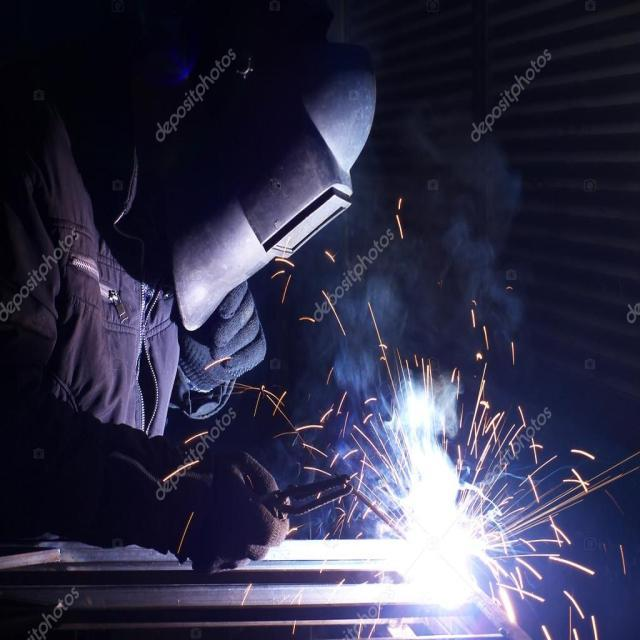with_helmet: (156, 42, 375, 328)
